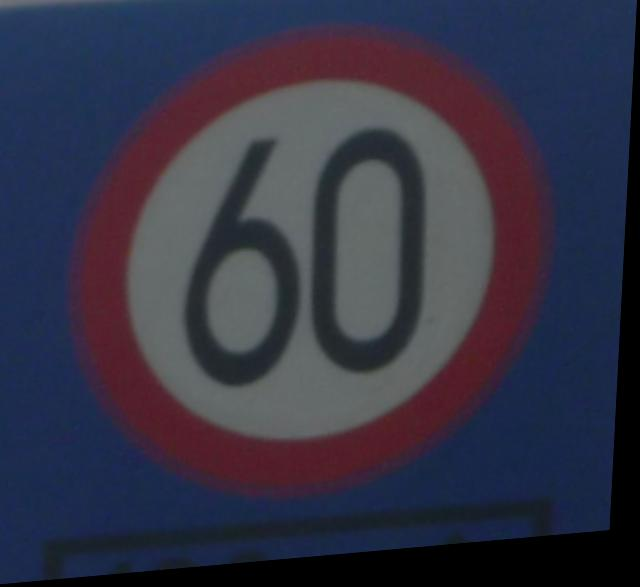limit60: (54, 0, 578, 527)
